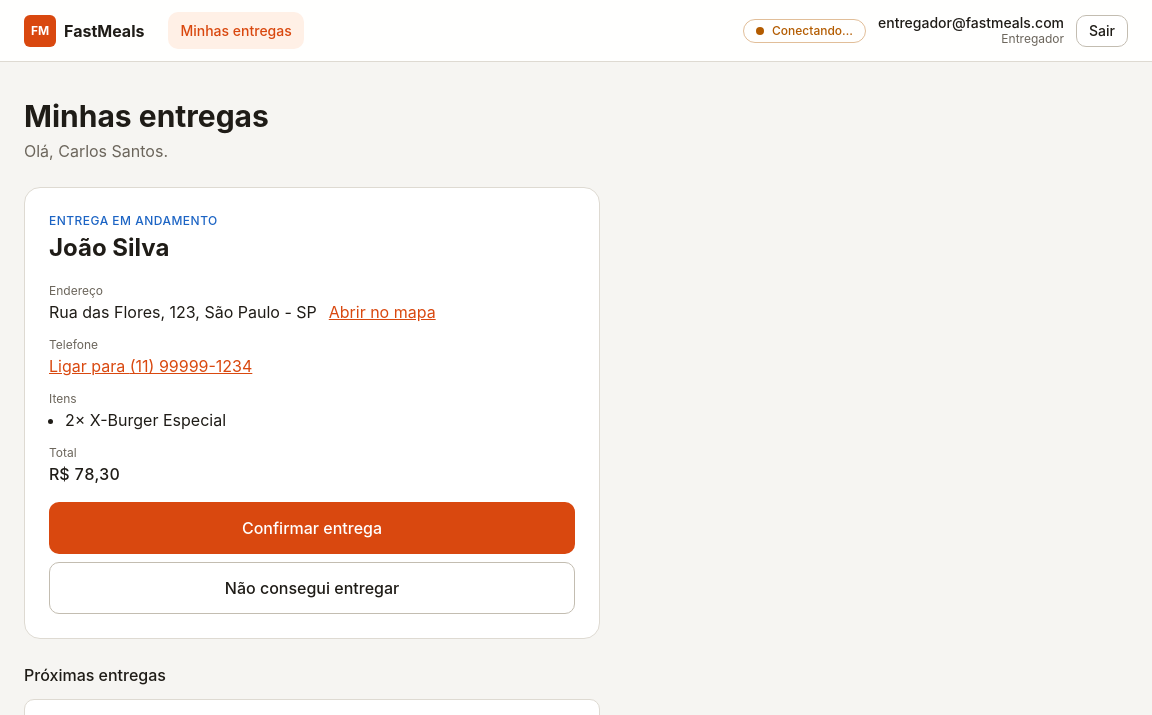
Test: Tela do entregador › confirma a entrega depois de "Entreguei"; a tela recarrega sem ela
Click the button "Confirmar entrega". click: (312, 528)
box: [49,502,575,554]
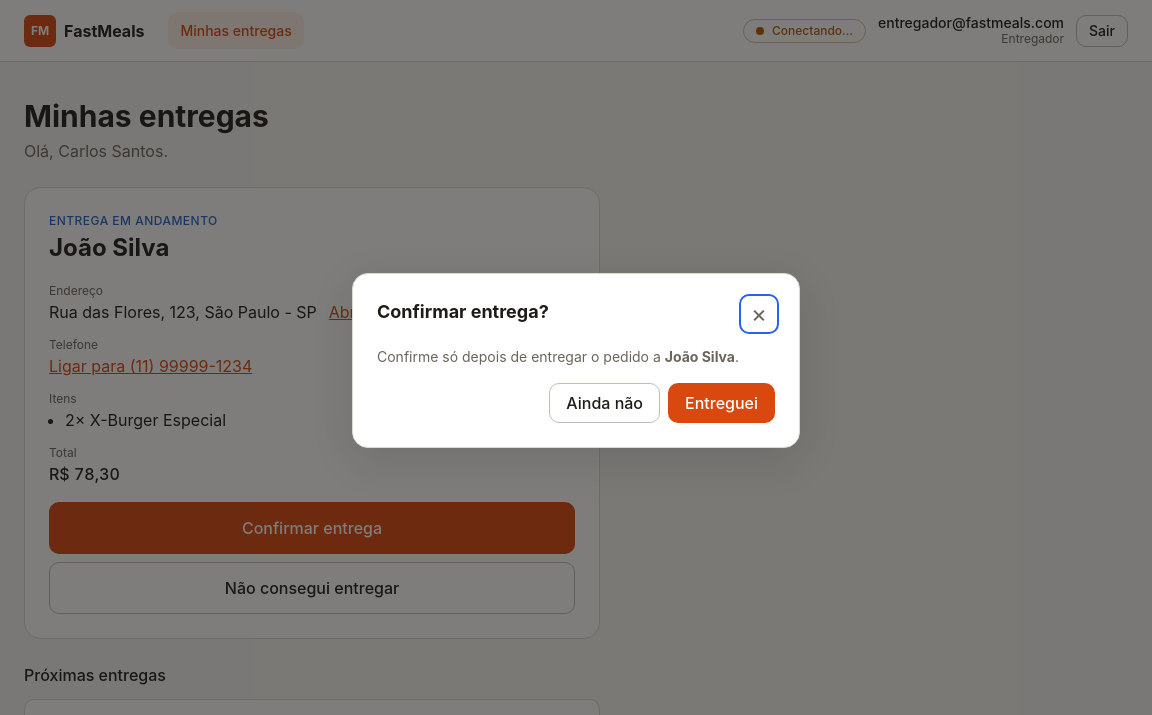
Click the button "Entreguei". click: (722, 402)
box: [668,382,775,422]
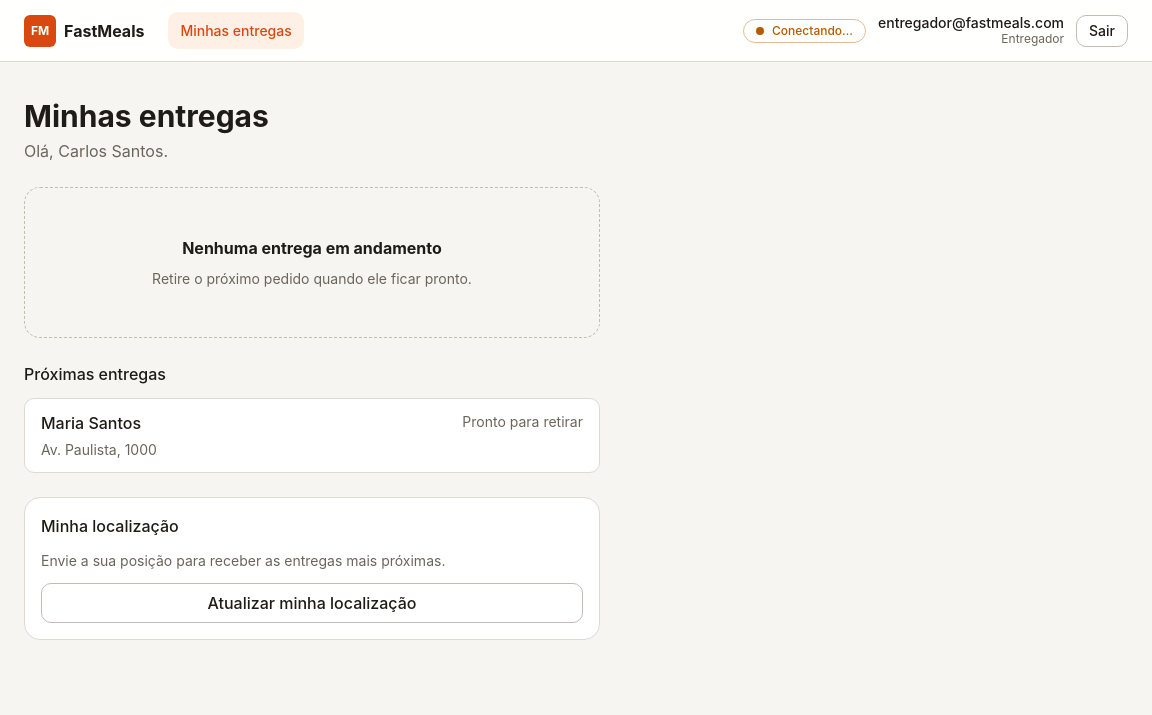
Expected: the text "Nenhuma entrega em andamento" is shown, [182,236,442,260]
